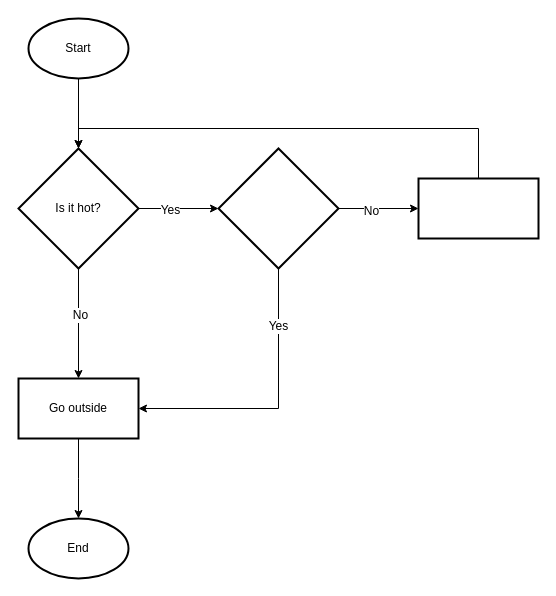
Some shapes in this 556 by 596 pixel diagram are drawn without their labels. The centre of each missing label's shape, as x and y in pixels:
"Is it bearable?" belongs at [278,208].
"Wait a little" belongs at [478,208].
